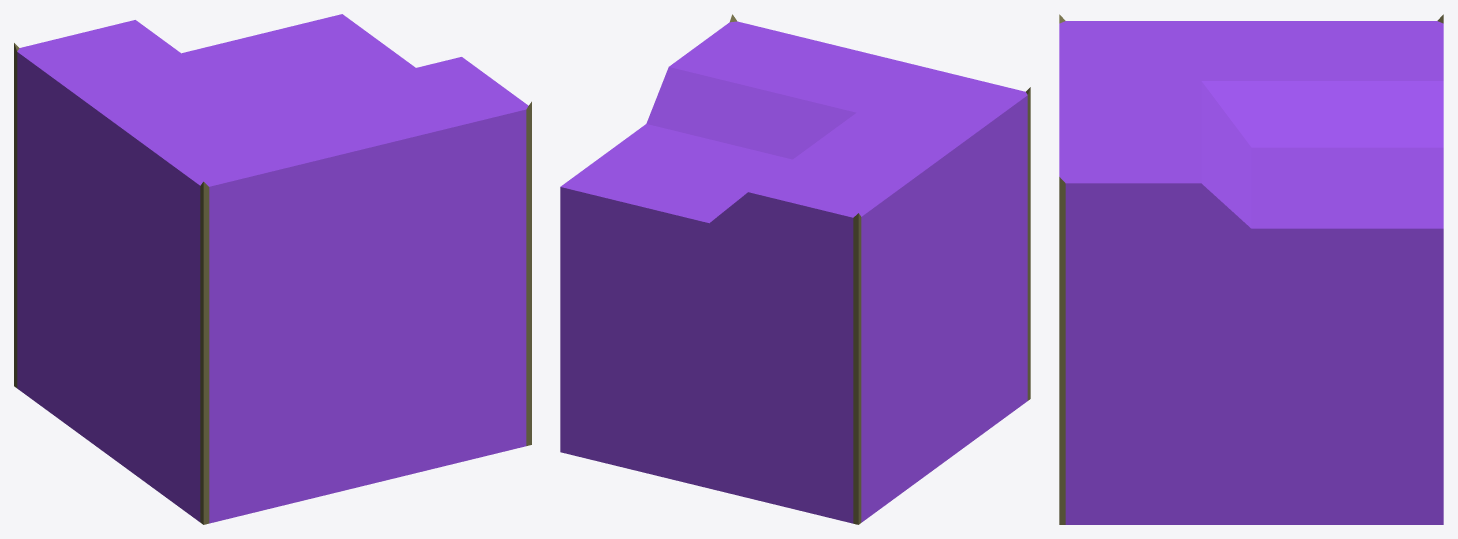
The model's file is tile_toxic_deep_2_02.fbx.
The picture shows the model from 3 angles, left to right: view 1: azimuth 30°, elevation 25°; view 2: azimuth 150°, elevation 25°; view 3: azimuth 270°, elevation 25°; orthographic projection. The views are drawn at different scales.
Visible parts, largest first — view 1: tile_toxic_deep_2_02; view 2: tile_toxic_deep_2_02; view 3: tile_toxic_deep_2_02.
Boxes of the visible parts, <box> form: tile_toxic_deep_2_02: <box>14,14,531,524</box>; tile_toxic_deep_2_02: <box>560,14,1030,524</box>; tile_toxic_deep_2_02: <box>1059,14,1443,524</box>.
Size of the model in its own units: 100 by 100 by 100.
